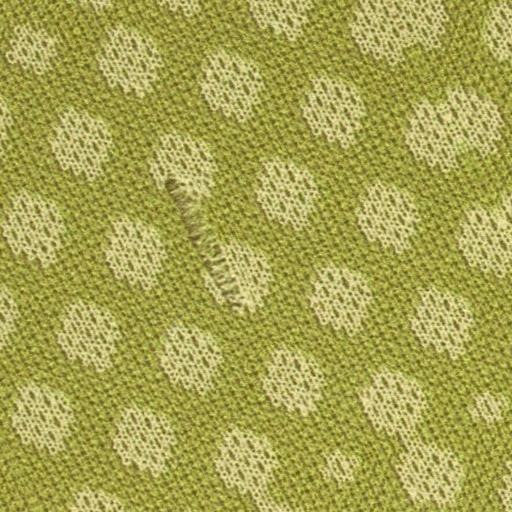slub: (151, 166, 260, 327)
